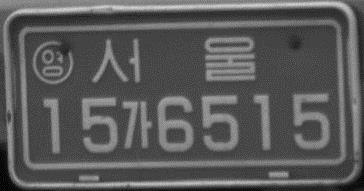1: (39, 95, 64, 158), (251, 91, 276, 153)
5: (199, 93, 239, 153), (79, 96, 119, 155), (290, 90, 329, 150)
6: (156, 94, 194, 154)
가: (120, 99, 153, 150)
서울_D: (86, 35, 258, 85)
영: (29, 39, 74, 86)
